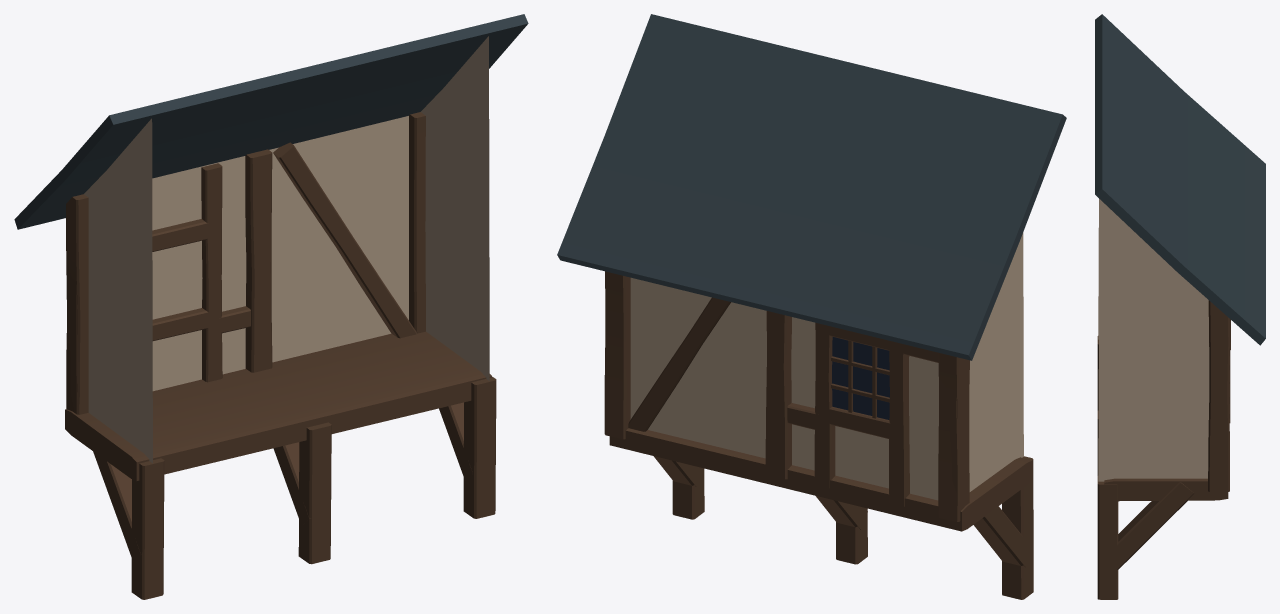
File: CornerRoofRoom2.fbx
3 views of the same model, side by side, from view 1: azimuth 30°, elevation 25°; view 2: azimuth 150°, elevation 25°; view 3: azimuth 270°, elevation 25° (orthographic). The views are drawn at different scales.
Visible parts, largest first — view 1: Cube.037; view 2: Cube.037; view 3: Cube.037.
Part boxes in pixels (x1,y1,x2,y2): Cube.037: (14, 14, 528, 599); Cube.037: (557, 14, 1066, 599); Cube.037: (1095, 14, 1265, 599).
Bounding box in the file's own units: 4.81 × 5.49 × 1.98.
